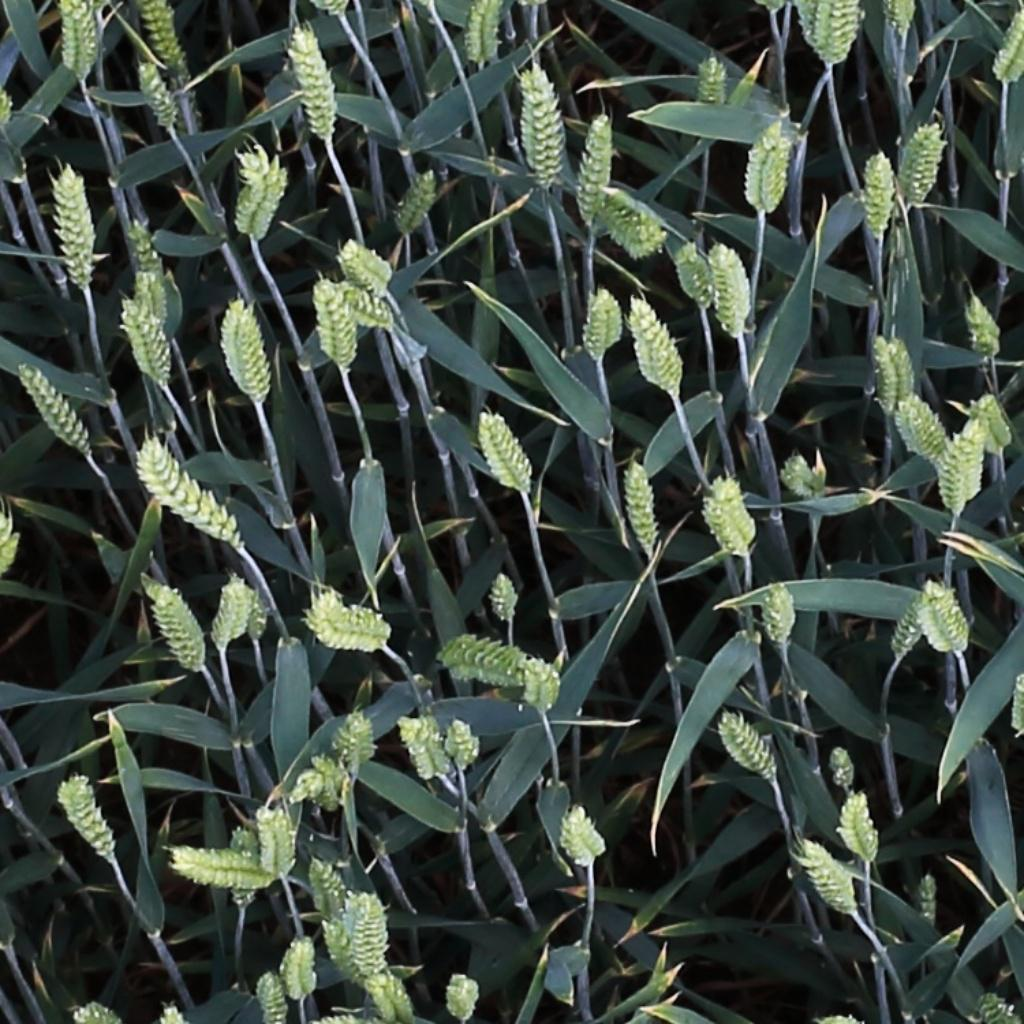0-0: (127, 433, 248, 548), (15, 360, 96, 458), (438, 622, 549, 691), (793, 833, 874, 926), (285, 23, 340, 149), (512, 60, 564, 189), (46, 157, 97, 287), (144, 576, 206, 673), (221, 292, 272, 409), (56, 771, 120, 863), (306, 582, 390, 652), (629, 292, 686, 393), (701, 460, 760, 557), (119, 291, 176, 389), (309, 274, 363, 376), (156, 846, 277, 891), (897, 396, 973, 465), (893, 120, 948, 215), (477, 408, 536, 496), (874, 320, 920, 432), (742, 117, 794, 215), (937, 425, 989, 520), (922, 578, 979, 664), (719, 711, 783, 787), (833, 776, 880, 879), (574, 113, 616, 228), (235, 147, 287, 239), (139, 0, 191, 86), (343, 890, 397, 971), (355, 965, 428, 1024), (621, 450, 660, 559), (396, 707, 452, 781), (254, 800, 303, 883), (557, 799, 608, 875), (54, 0, 99, 83), (393, 162, 442, 238), (314, 917, 366, 987), (578, 284, 623, 364), (605, 194, 667, 252), (135, 55, 181, 133), (124, 223, 165, 309), (712, 238, 746, 341), (890, 585, 933, 664), (777, 450, 829, 515), (817, 0, 867, 66), (293, 749, 346, 811), (320, 285, 393, 330), (465, 0, 513, 68), (671, 240, 716, 311), (212, 573, 249, 658), (339, 237, 394, 294), (274, 932, 320, 1000), (971, 389, 1015, 459), (862, 143, 894, 239), (963, 286, 1002, 364), (333, 708, 381, 770), (759, 575, 796, 651), (520, 653, 567, 711), (991, 6, 1024, 86), (224, 823, 257, 901), (307, 855, 351, 912), (0, 490, 23, 583), (445, 718, 481, 772), (443, 974, 481, 1024), (883, 0, 922, 48), (253, 972, 289, 1024), (697, 49, 726, 113), (827, 741, 858, 800), (918, 868, 944, 937), (796, 0, 826, 58), (491, 566, 518, 630), (244, 580, 269, 648), (65, 998, 129, 1024), (306, 1005, 391, 1024), (1007, 667, 1024, 749), (976, 991, 1014, 1024), (150, 998, 198, 1024), (305, 0, 355, 19)
